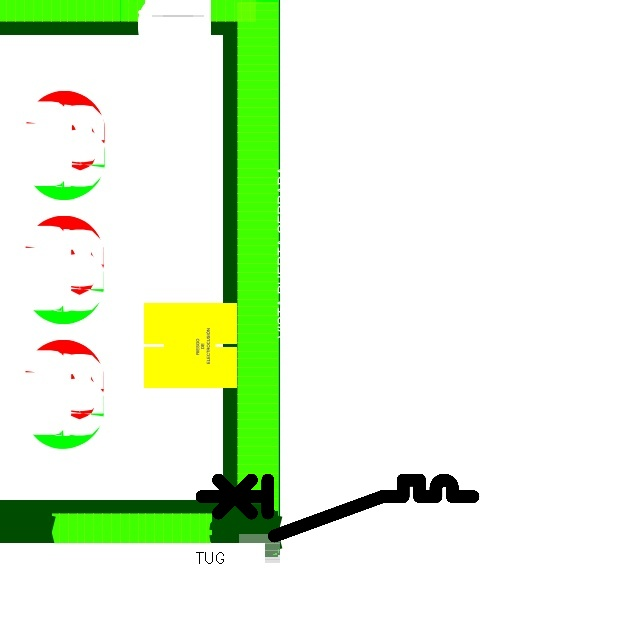interruptor_termomagnetico: (195, 473, 480, 542)
